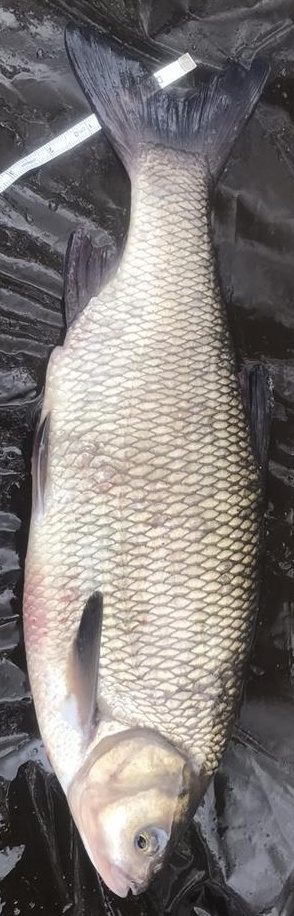Leuciscus idus: (20, 20, 274, 896)
